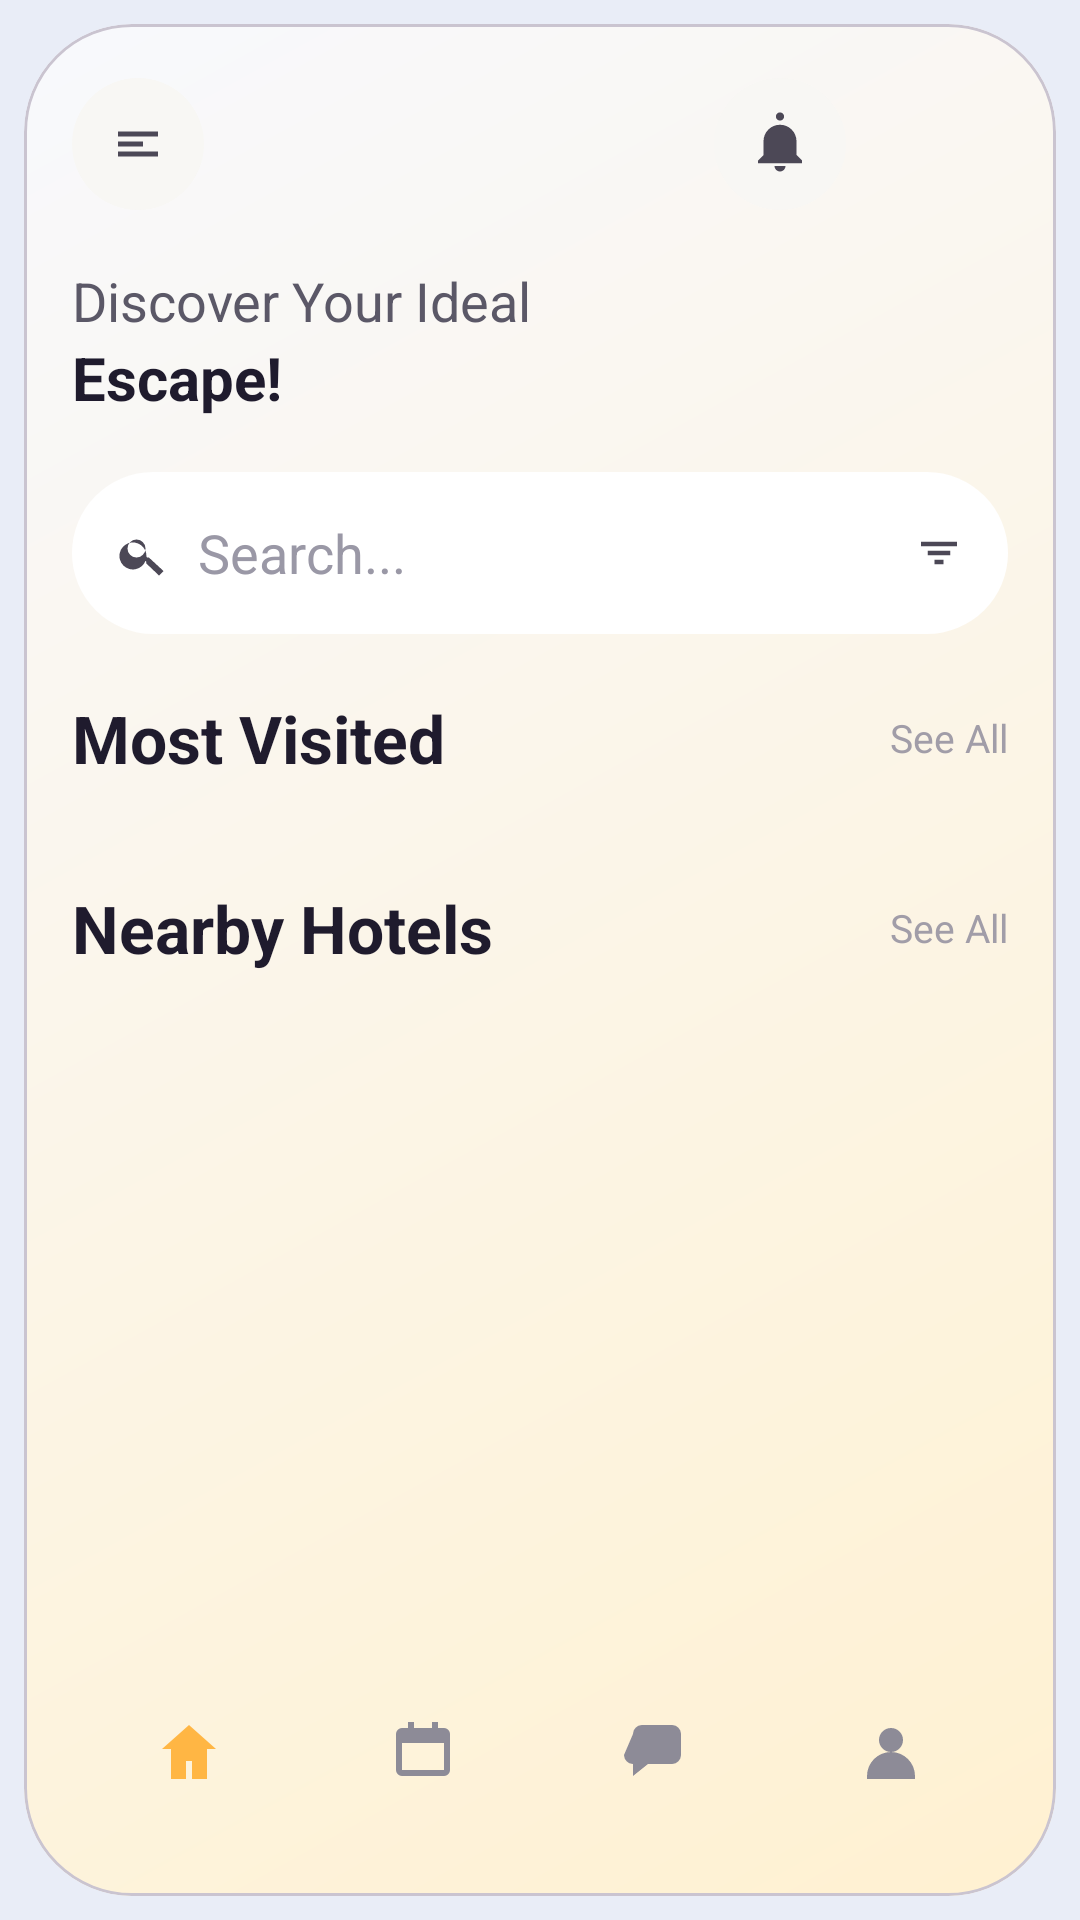

Point at icon controls on the screen. Image size 1080px x 1920px, points as [x,y].
filter horizontal: [939,553]
home menu: [138,144]
notification: [780,142]
